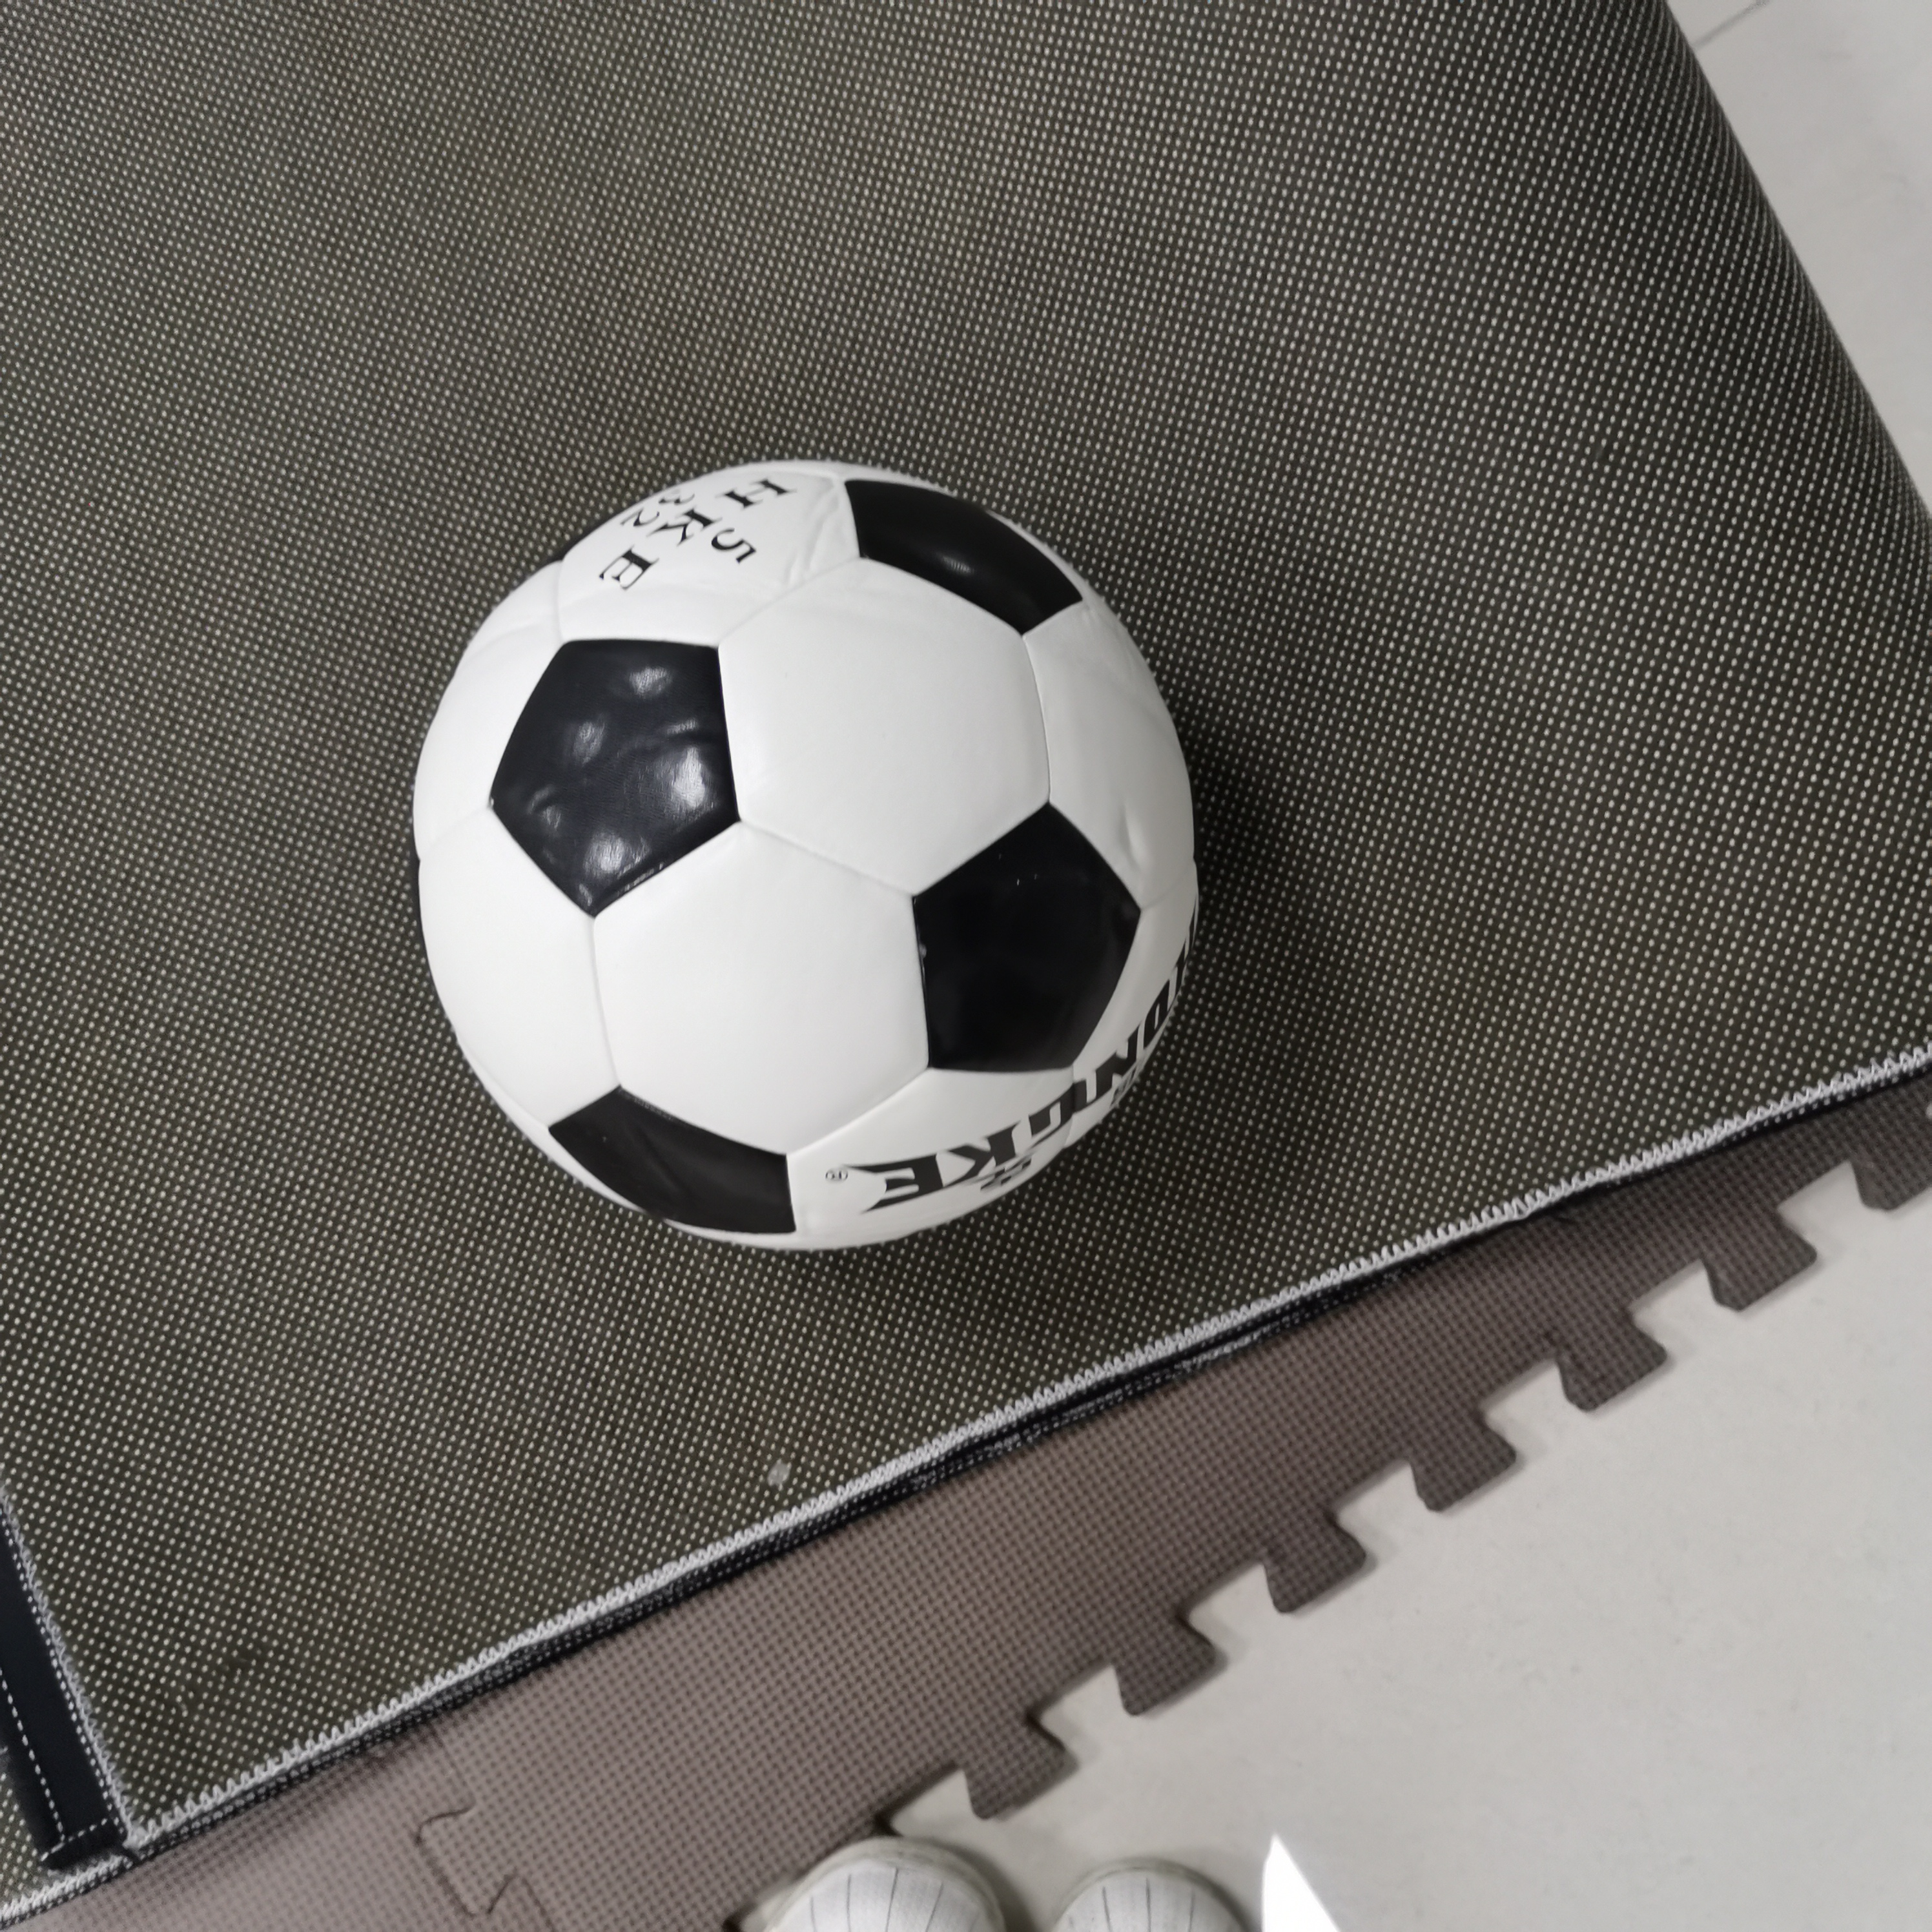football: (412, 453, 1201, 1256)
